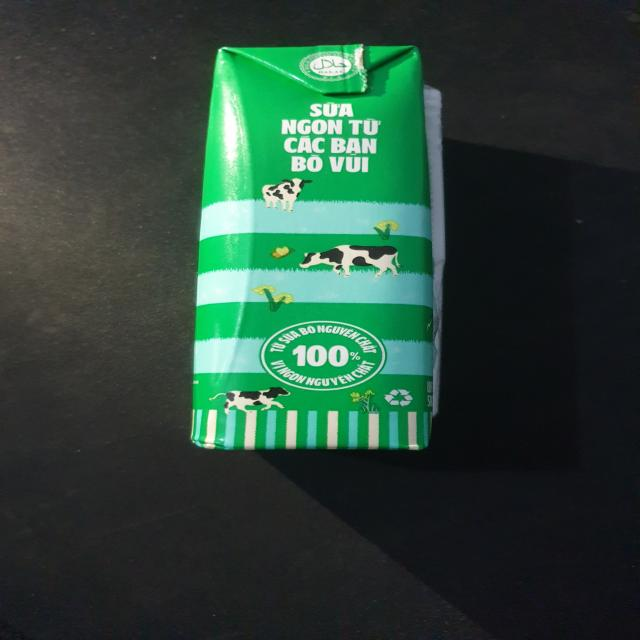Vina: (189, 44, 460, 458)
